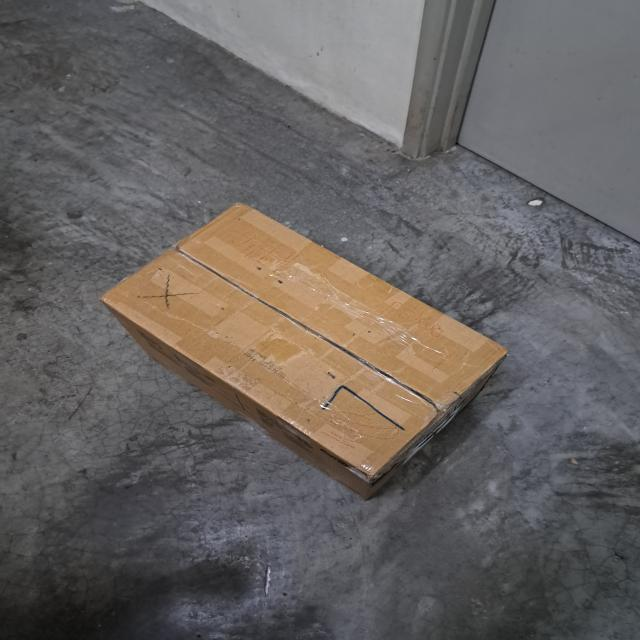cardboard: (100, 200, 508, 495)
